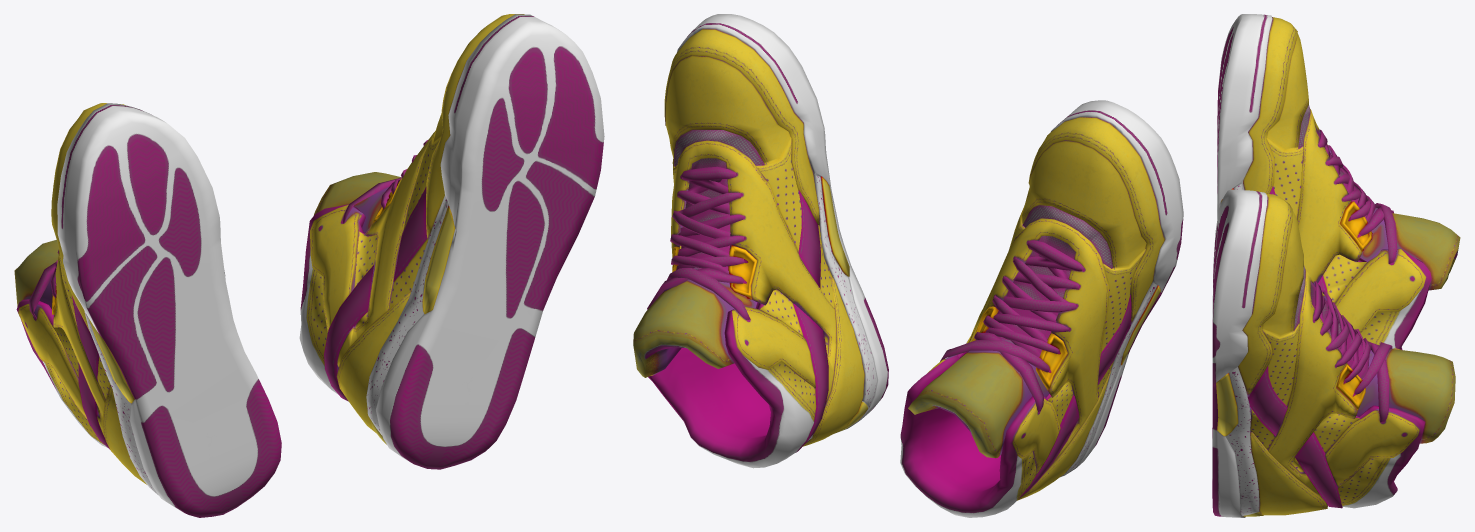
File: Sneakers.fbx
3 views of the same model, side by side, from view 1: azimuth 30°, elevation 25°; view 2: azimuth 150°, elevation 25°; view 3: azimuth 270°, elevation 25° (orthographic). The views are drawn at different scales.
Visible parts, largest first — view 1: rb1.004; view 2: rb1.004; view 3: rb1.004.
Boxes of the visible parts, <box> form: rb1.004: <box>14,14,604,517</box>; rb1.004: <box>633,14,1183,517</box>; rb1.004: <box>1212,14,1460,517</box>.
Bounding box in the file's own units: 8.61 × 6.63 × 4.1.
